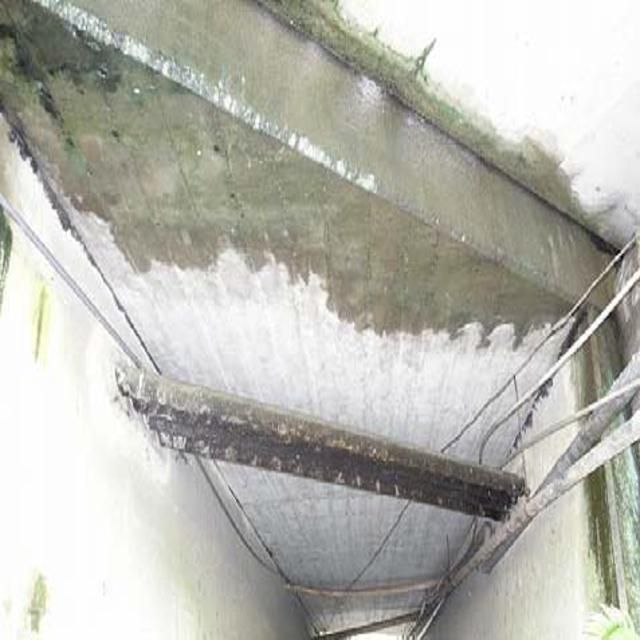leakage: (13, 10, 600, 321)
